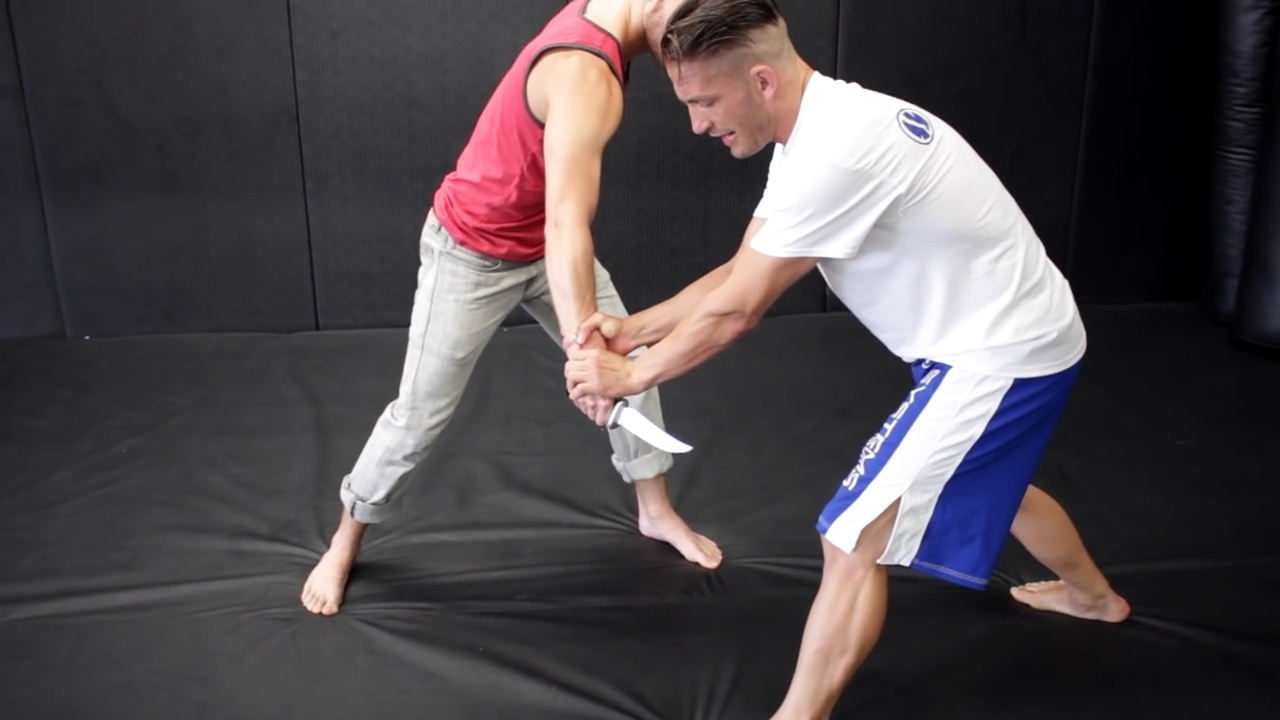knife: (567, 395, 701, 462)
